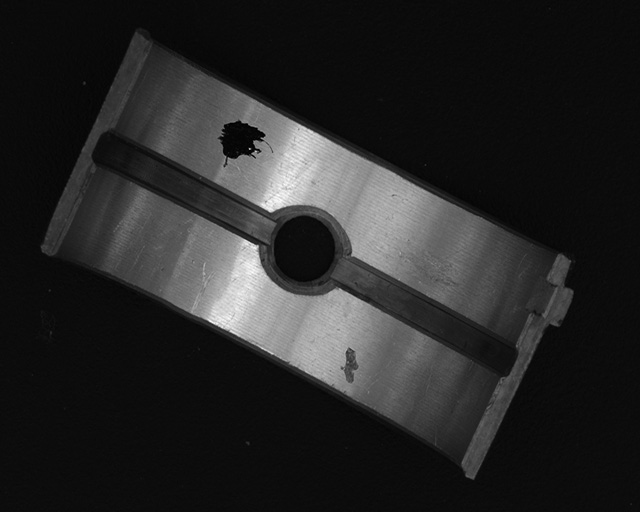blot: (216, 119, 273, 168)
bruise: (340, 345, 360, 385)
gap: (337, 258, 512, 372), (96, 130, 274, 237)
hole: (262, 205, 349, 291)
nick: (189, 262, 214, 314)
scratch: (392, 241, 469, 291)
